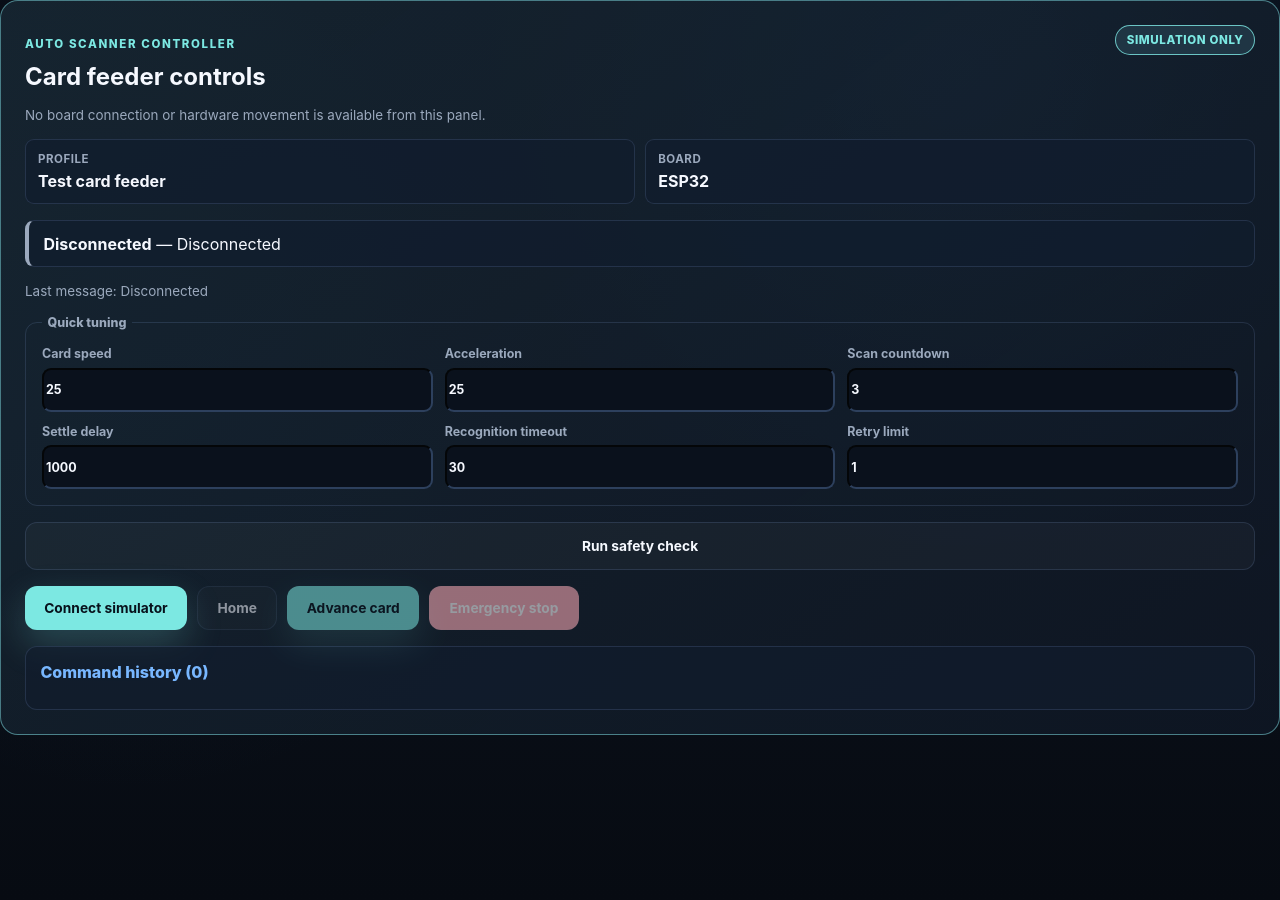
Test case: connects the simulator and exposes bounded quick controls
Expected: the text "Simulation only" is shown, [1115,25,1255,55]
Click the button "Connect simulator": {"x": 106, "y": 608} [25,586,187,630]
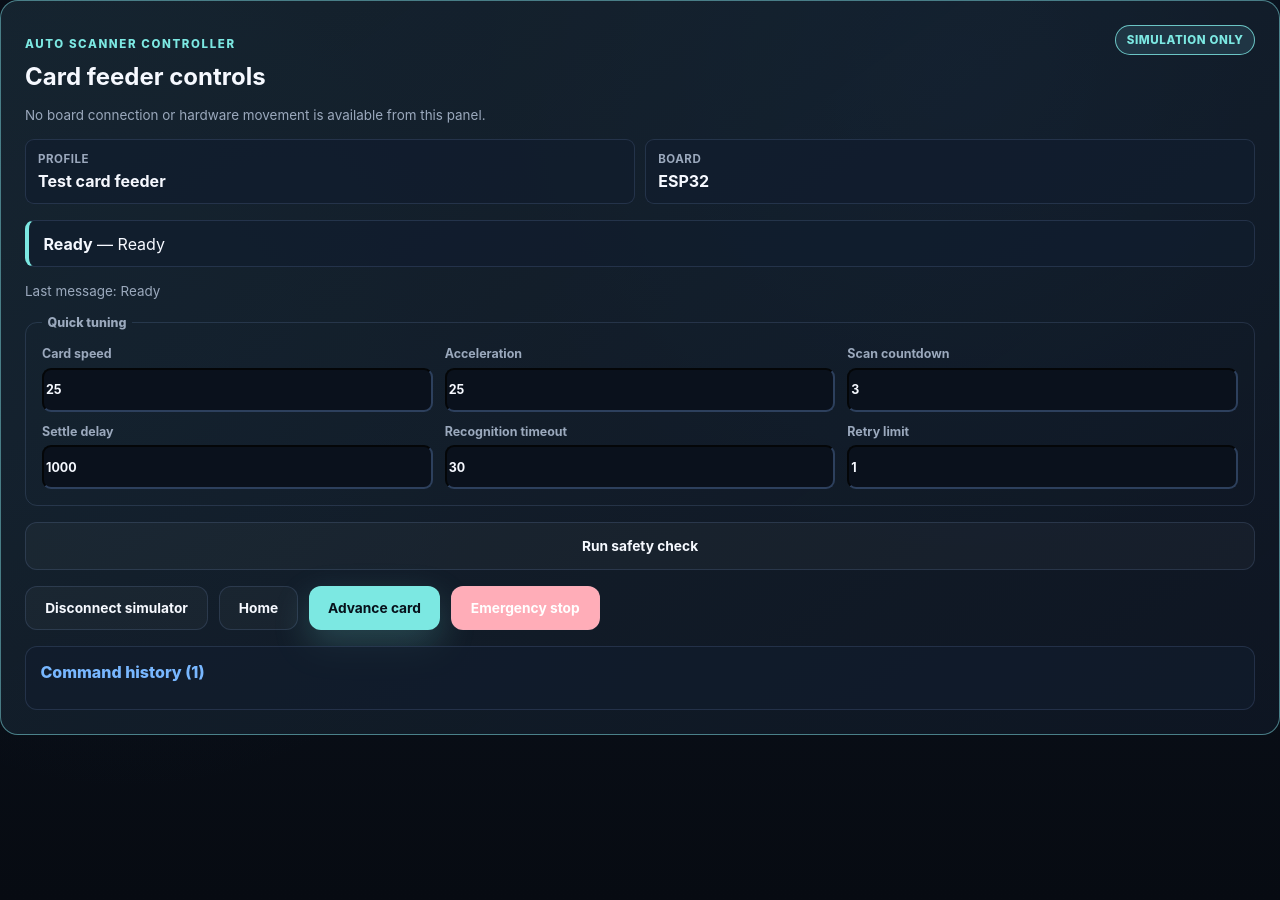
Expected: the message named "Controller status" shows "ready", [43,234,93,254]
